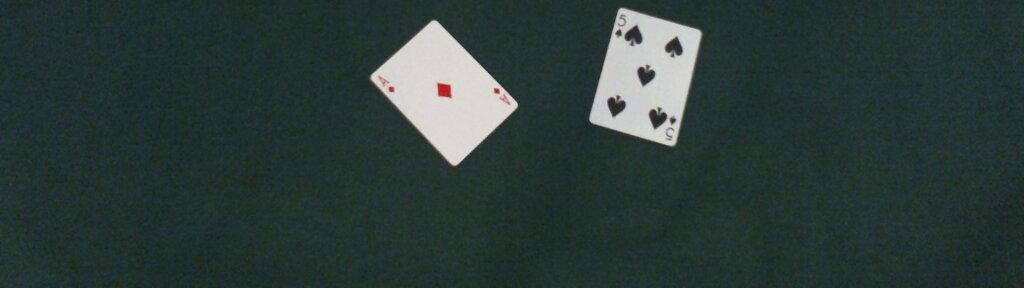ace: (368, 21, 520, 167)
five: (588, 8, 702, 146)
